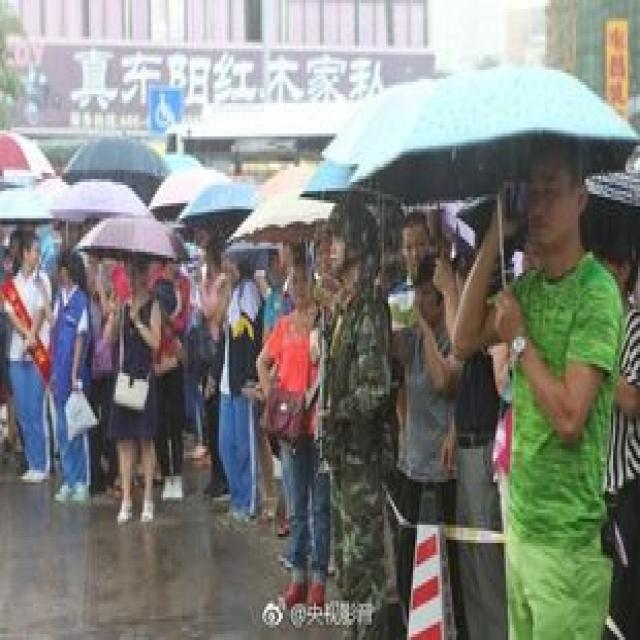10-: (0, 106, 638, 628)
